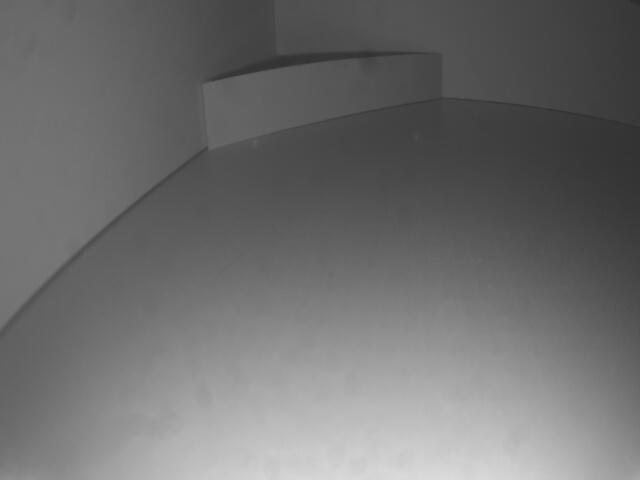Red: (202, 55, 444, 154)
